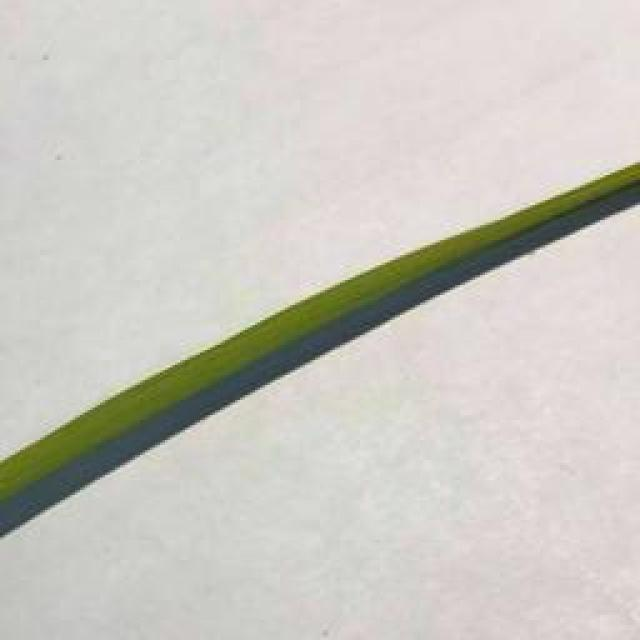Healthy-Plant: (189, 251, 410, 391), (410, 160, 640, 287), (0, 360, 188, 502)
